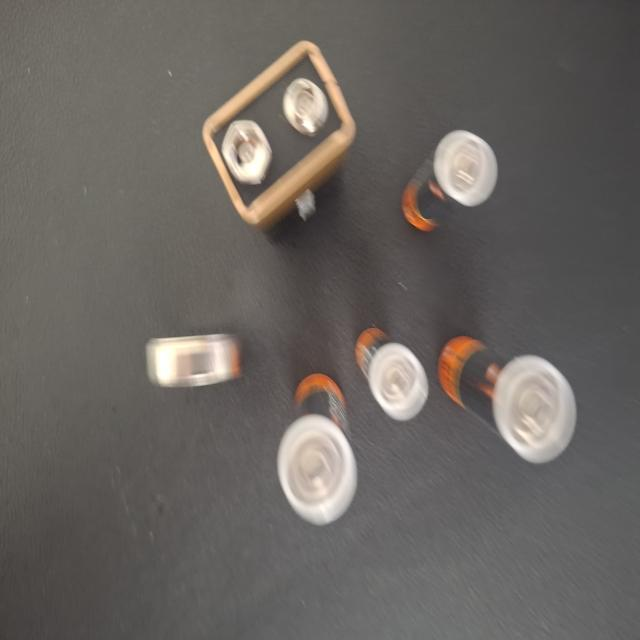9V: (284, 394, 438, 599)
AA: (64, 177, 202, 304), (283, 115, 363, 266)
AAA: (142, 410, 238, 510), (212, 220, 284, 312)
COIN: (399, 253, 494, 306)
